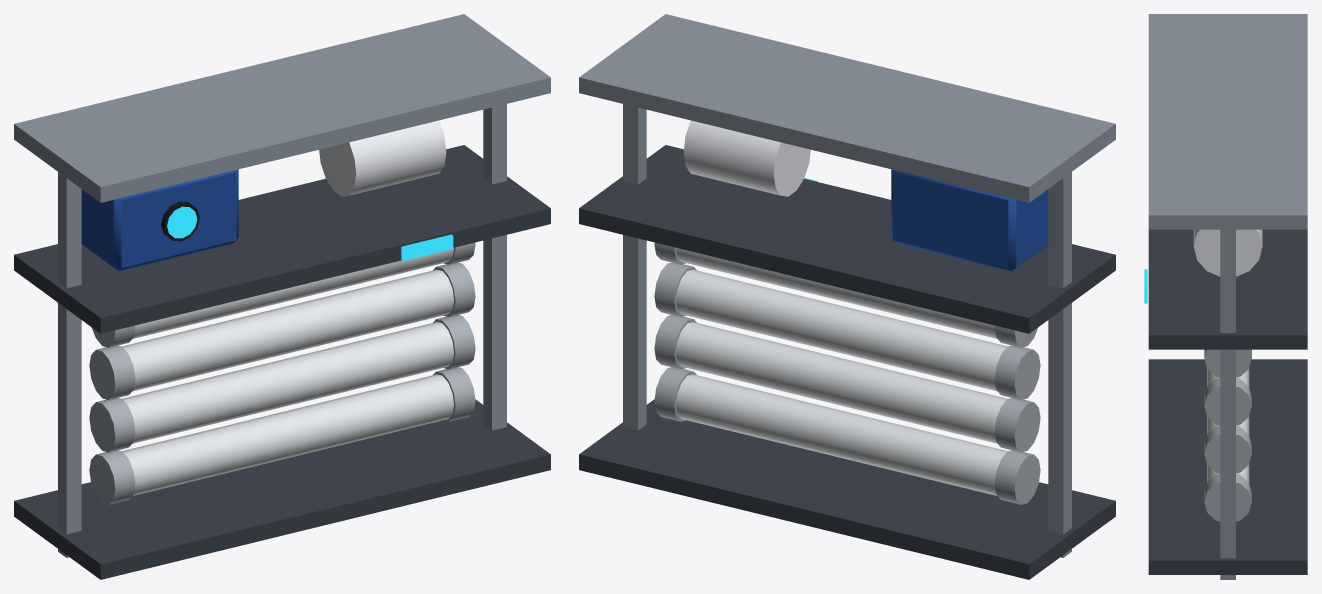
File: watertank_reverse_osmosis_skid.glb
The picture shows the model from 3 angles, left to right: view 1: azimuth 30°, elevation 25°; view 2: azimuth 150°, elevation 25°; view 3: azimuth 270°, elevation 25°; orthographic projection. The views are drawn at different scales.
Visible parts, largest first — view 1: watertank_reverse_osmosis_skid; view 2: watertank_reverse_osmosis_skid; view 3: watertank_reverse_osmosis_skid.
Boxes of the visible parts, x1,y1,x2,y2 form: watertank_reverse_osmosis_skid: (14,14,550,579); watertank_reverse_osmosis_skid: (579,14,1115,579); watertank_reverse_osmosis_skid: (1144,14,1307,579).
Size of the model in its own units: 1.8 by 1.53 by 0.616.
